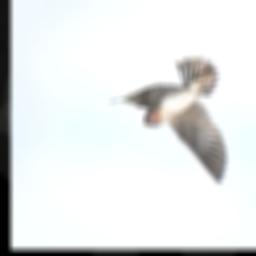Swallow: (107, 51, 232, 186)
